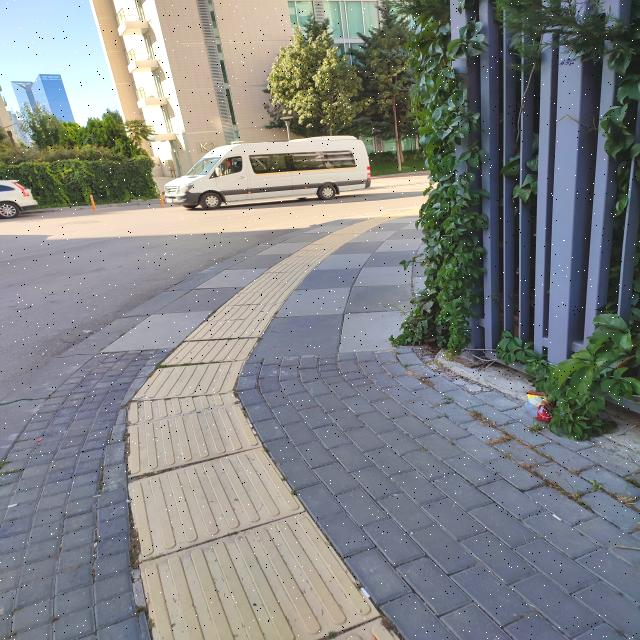sidewalk: (3, 209, 640, 640)
